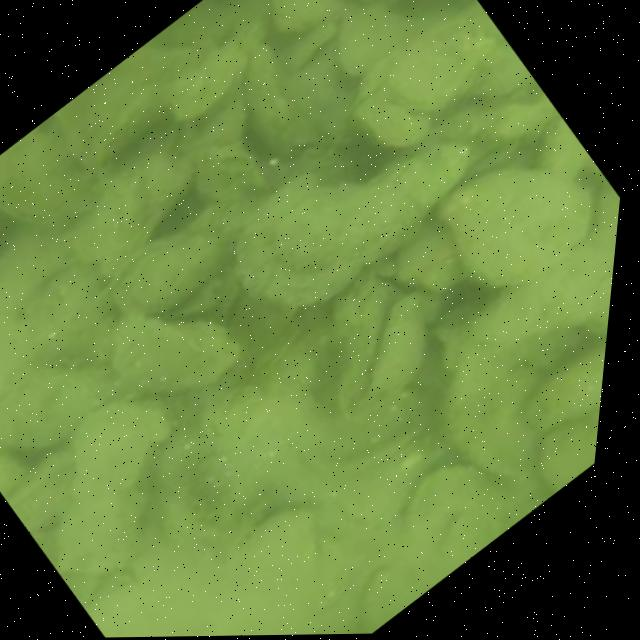Oyster-Closed: (218, 142, 255, 171)
Oyster-Indeterminate: (233, 133, 474, 310), (423, 163, 591, 287), (79, 153, 194, 275), (105, 315, 248, 401), (0, 359, 119, 451), (116, 232, 234, 315), (518, 333, 607, 431), (0, 133, 97, 220), (388, 18, 469, 110), (92, 81, 170, 170), (368, 291, 425, 391), (342, 0, 415, 76), (269, 0, 356, 35)
